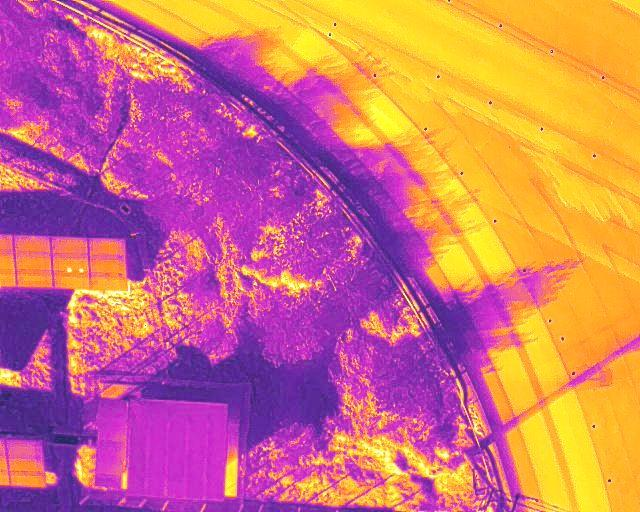Cell-Multi: (51, 257, 89, 272)
No-Anomaly: (15, 252, 51, 271), (51, 238, 89, 256), (6, 441, 43, 458), (90, 257, 126, 274), (89, 240, 125, 257), (90, 275, 127, 290), (14, 237, 51, 252), (16, 272, 52, 287), (8, 472, 45, 486), (53, 273, 90, 287), (7, 458, 43, 471)
